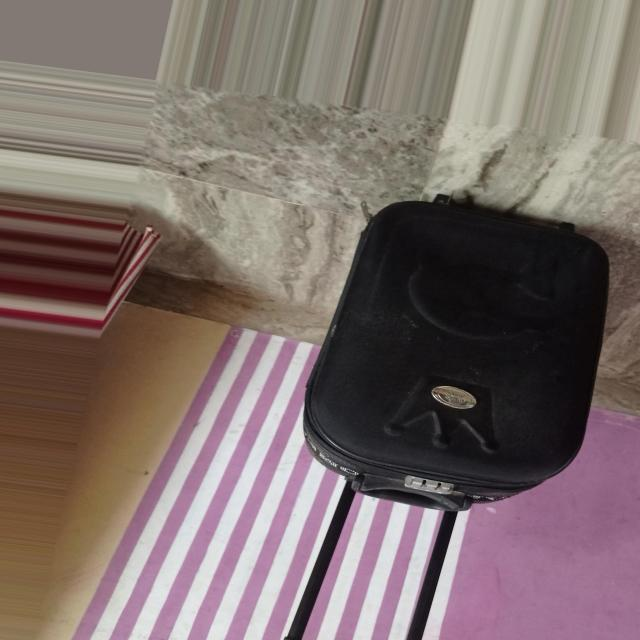Bag: (280, 192, 621, 639)
Handle: (291, 467, 486, 640)
